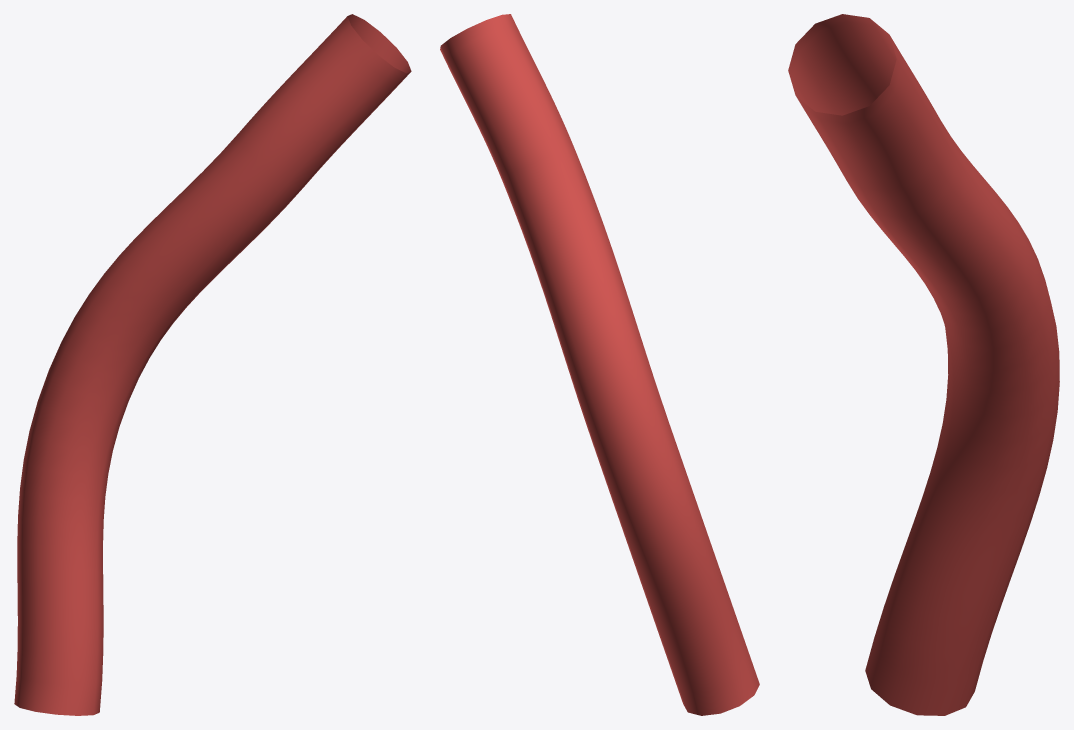
The picture shows the model from 3 angles, left to right: view 1: azimuth 30°, elevation 25°; view 2: azimuth 150°, elevation 25°; view 3: azimuth 270°, elevation 25°; orthographic projection. The views are drawn at different scales.
Parts seen in each view (by area): view 1: 右侧后交通动脉; view 2: 右侧后交通动脉; view 3: 右侧后交通动脉.
Boxes of the visible parts, x1,y1,x2,y2 form: 右侧后交通动脉: [14, 14, 411, 715]; 右侧后交通动脉: [440, 14, 759, 715]; 右侧后交通动脉: [788, 14, 1059, 715].
Bounding box in the file's own units: 0.0106 × 0.0185 × 0.00536.
